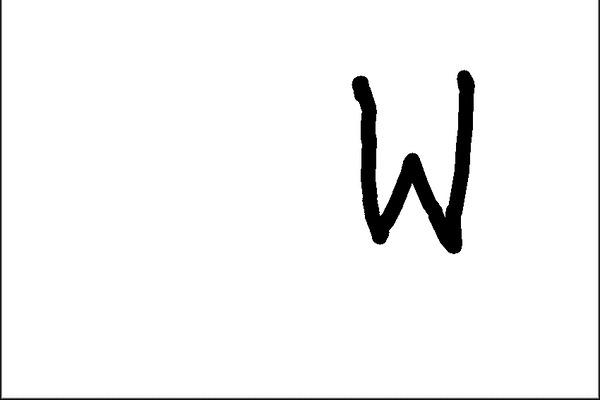w: (329, 56, 533, 259)
